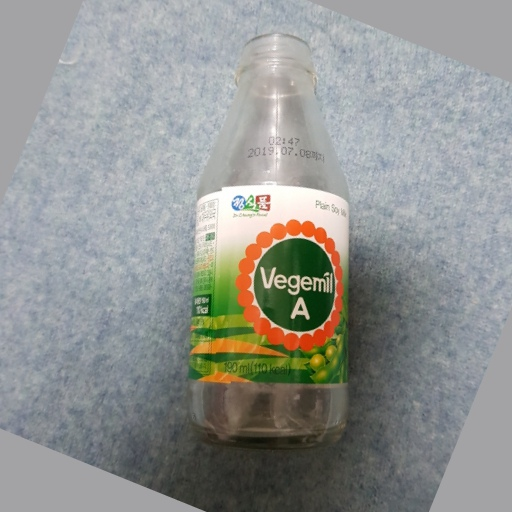Glass_4: (190, 34, 348, 444)
